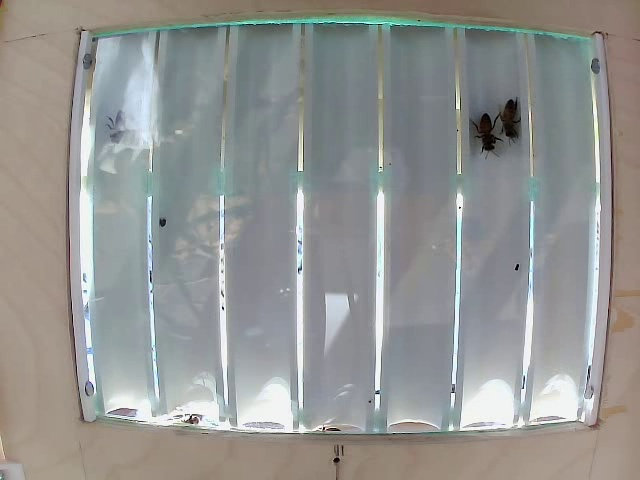bee: (104, 106, 144, 152), (479, 112, 505, 166), (503, 96, 529, 143)
